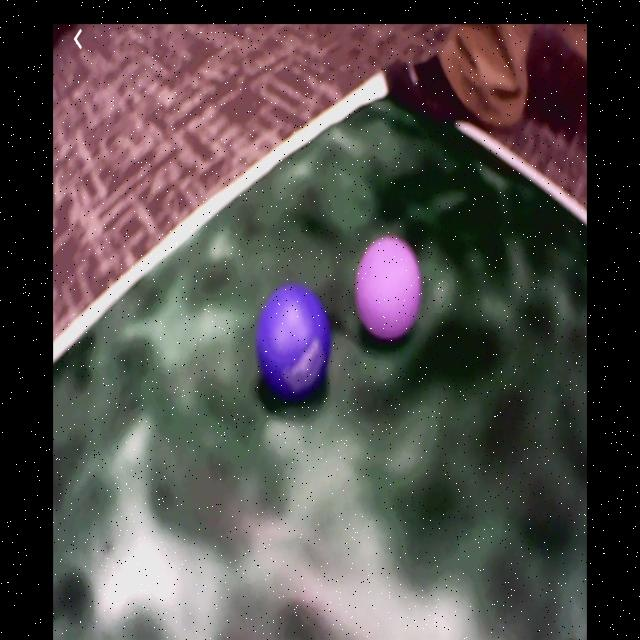ball: (254, 281, 331, 397), (354, 236, 422, 339)
